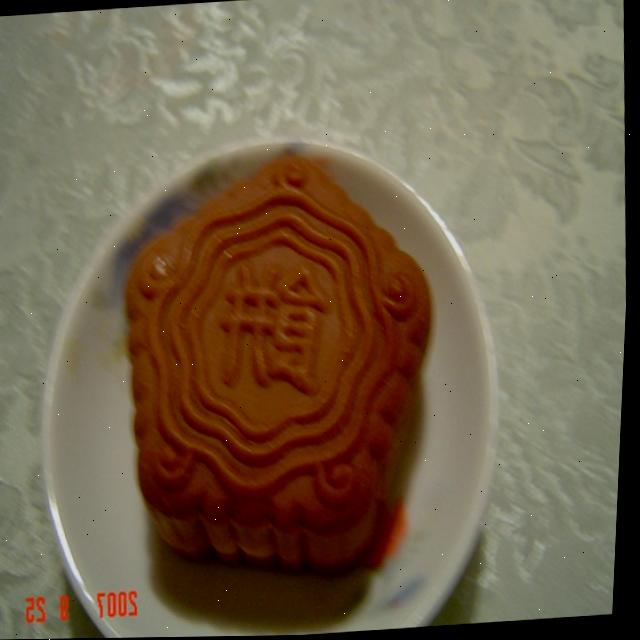蛋糕甜品: (57, 133, 494, 622)
